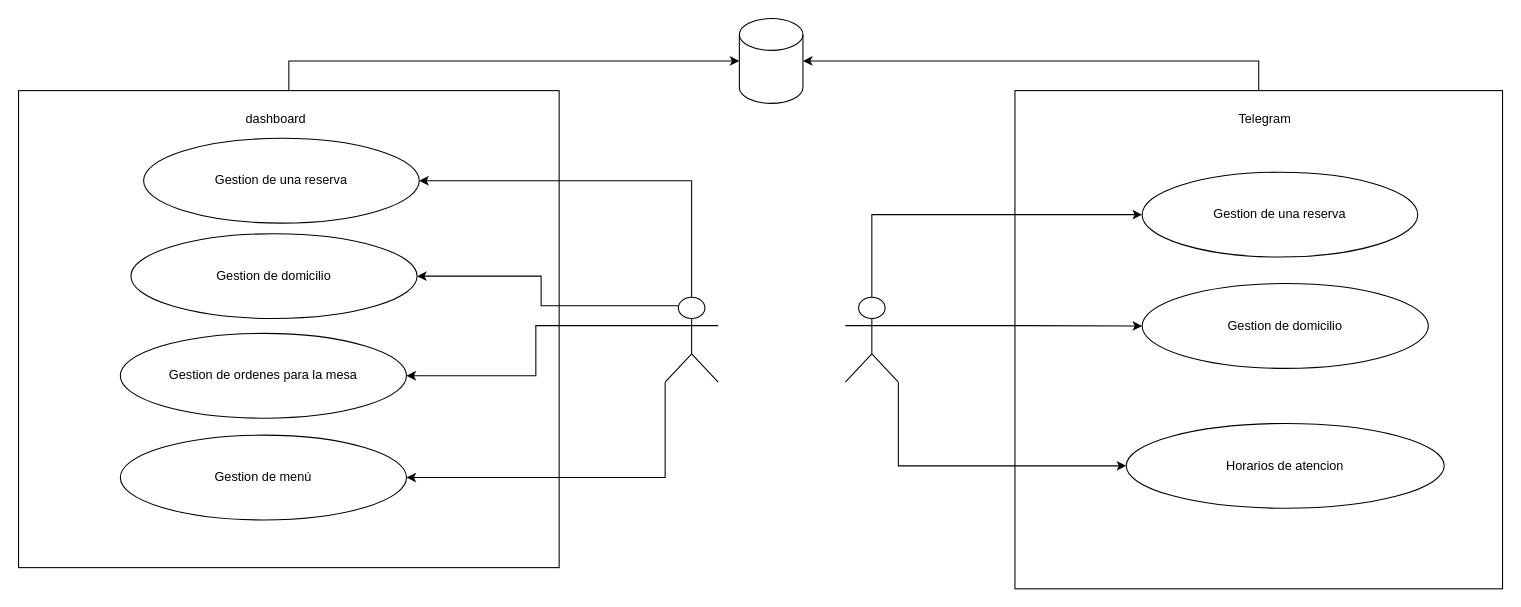
Some shapes in this 1521 by 607 pixel diagram are drawn without their labels. Here are the shapes that lost their labels. From the top down, the box of each, then its label:
(738, 17, 803, 103): DB
(664, 296, 718, 382): Employee
(844, 296, 898, 382): Client
